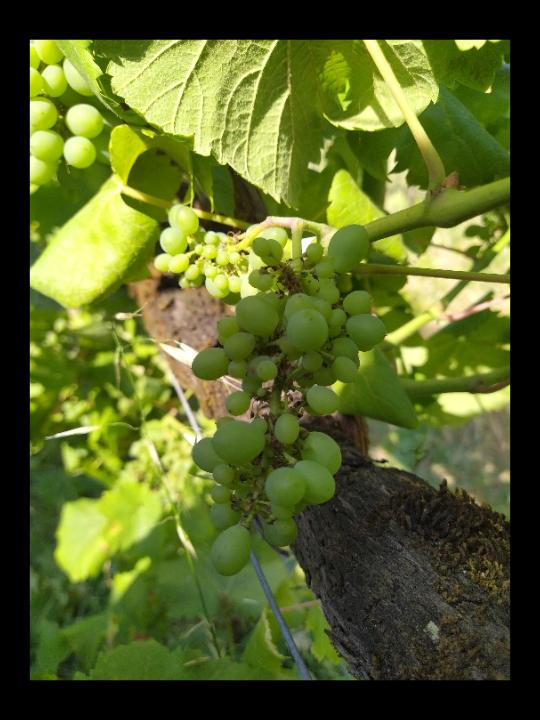grape: (184, 211, 394, 578), (150, 202, 242, 300)
